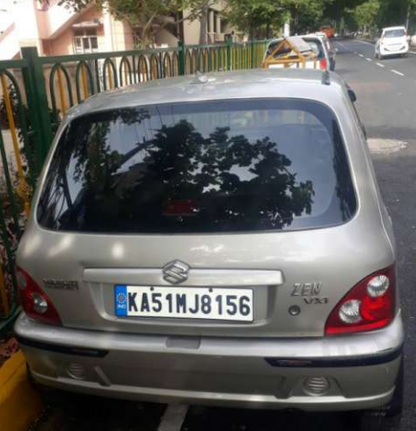number_plate: (105, 279, 260, 335)
